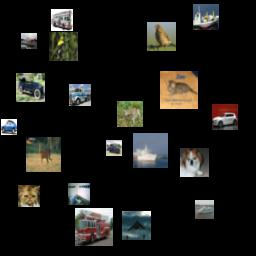airplane: (122, 211, 151, 240), (68, 183, 90, 205)
automobile: (16, 73, 45, 102), (212, 104, 238, 130), (1, 119, 17, 135)
bird: (49, 32, 78, 61), (147, 22, 176, 51)
cat: (160, 71, 198, 109), (18, 185, 40, 207)
deer: (26, 137, 61, 172)
dog: (180, 148, 209, 177)
frog: (117, 101, 143, 127)
ship: (133, 133, 168, 168), (193, 4, 219, 30), (195, 200, 214, 219), (21, 33, 37, 49)
truck: (75, 208, 113, 246), (69, 84, 91, 106), (51, 9, 73, 31), (106, 140, 122, 156)
